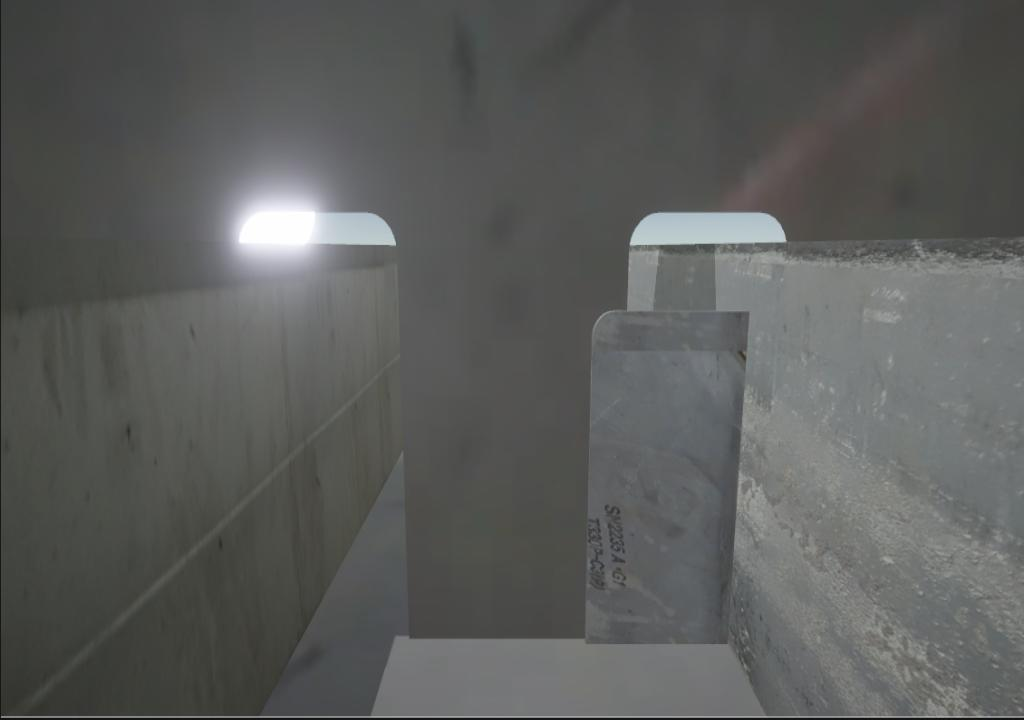fillet_yong_jeop_jang: (396, 628, 593, 645)
plate_CP05: (580, 310, 750, 646)
